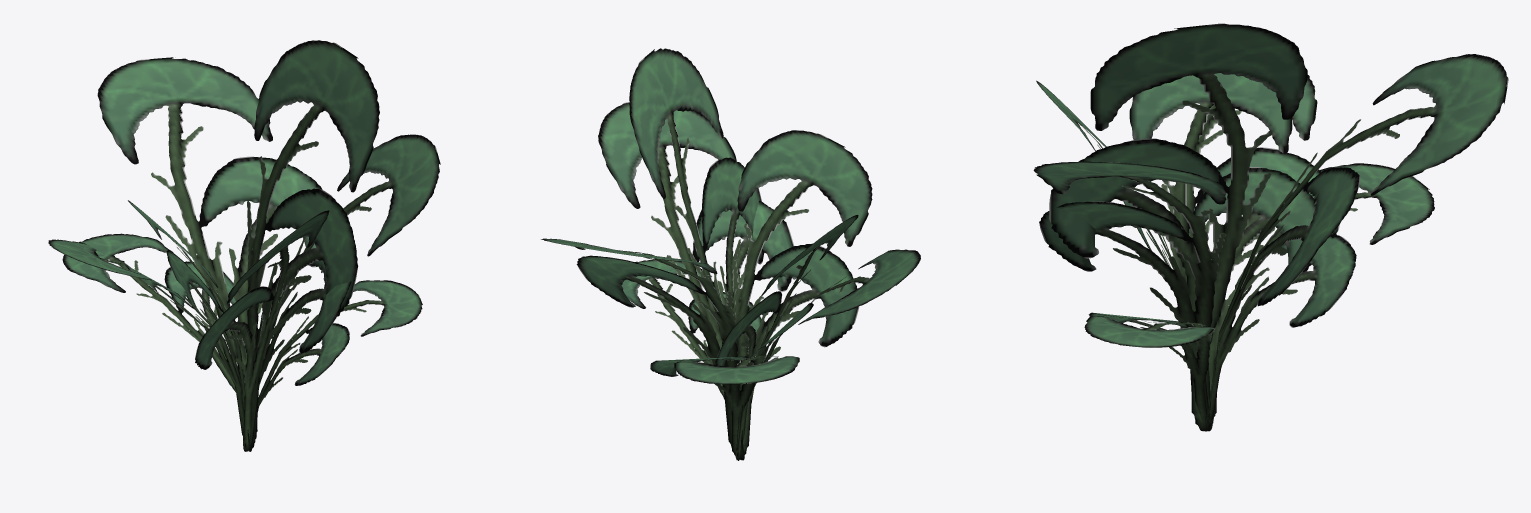
Rendered from CrescentMoonLillies.fbx.
The picture shows the model from 3 angles, left to right: view 1: azimuth 30°, elevation 25°; view 2: azimuth 150°, elevation 25°; view 3: azimuth 270°, elevation 25°; orthographic projection. The views are drawn at different scales.
Parts seen in each view (by area): view 1: CrescentMoonLillies; view 2: CrescentMoonLillies; view 3: CrescentMoonLillies.
Boxes of the visible parts, x1,y1,x2,y2 form: CrescentMoonLillies: (48,40,440,451); CrescentMoonLillies: (541,48,920,460); CrescentMoonLillies: (1033,23,1508,431).
Size of the model in its own units: 375 by 390 by 409.
1 material, 1 textured.
